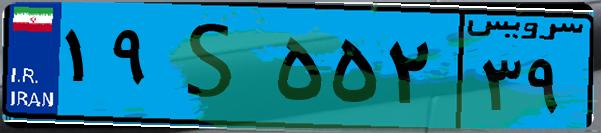1: (57, 26, 110, 100)
2: (385, 28, 445, 110)
3: (475, 38, 525, 113)
5: (270, 28, 330, 110), (330, 28, 385, 110)
9: (525, 38, 570, 115), (110, 28, 158, 98)
S: (158, 12, 270, 120)
